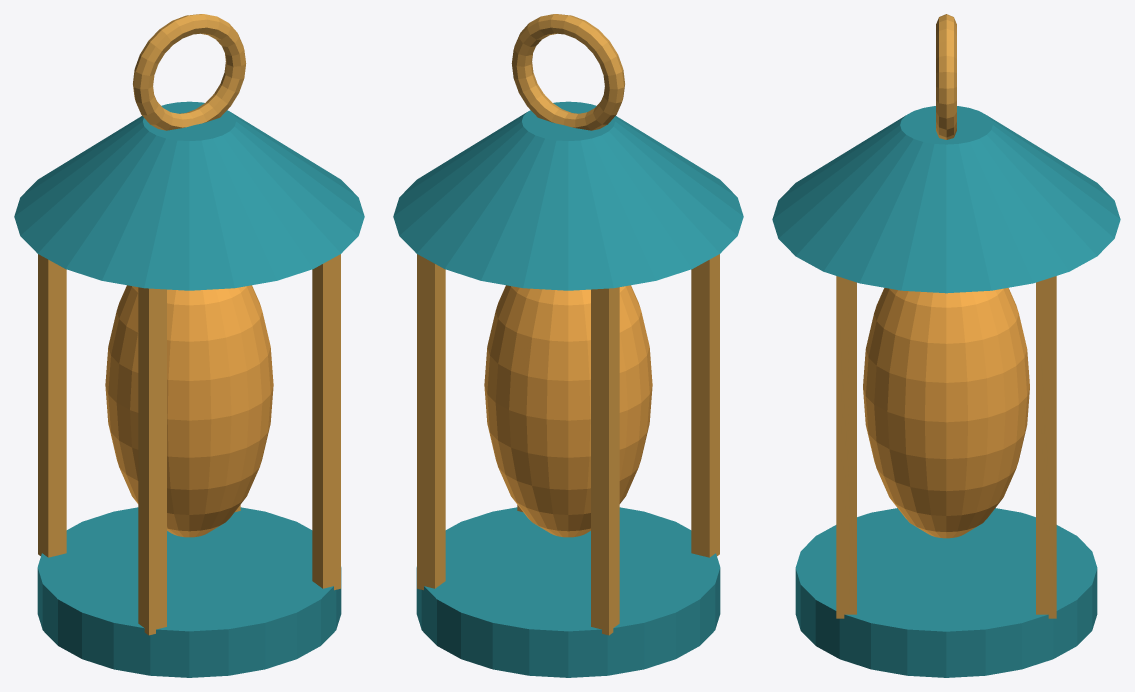
Rendered from lantern.glb.
3 renders of one model, left to right at view 1: azimuth 30°, elevation 25°; view 2: azimuth 150°, elevation 25°; view 3: azimuth 270°, elevation 25°, orthographic.
Visible parts, largest first — view 1: Canopy, Foot, Lamp, Support, Support.002, Support.001, Handle; view 2: Canopy, Foot, Lamp, Support.001, Support.003, Support, Handle; view 3: Canopy, Foot, Lamp, Support.002, Support.003, Handle.
Boxes of the visible parts, x1,y1,x2,y2 form: Canopy: [14, 101, 364, 290]; Foot: [37, 507, 341, 677]; Lamp: [105, 285, 273, 537]; Support: [138, 287, 166, 635]; Support.002: [312, 254, 340, 590]; Support.001: [38, 254, 66, 557]; Handle: [133, 14, 246, 130]; Canopy: [393, 101, 743, 290]; Foot: [416, 507, 720, 677]; Lamp: [484, 285, 652, 537]; Support.001: [591, 287, 619, 635]; Support.003: [417, 254, 445, 590]; Support: [691, 254, 719, 557]; Handle: [511, 14, 624, 130]; Canopy: [772, 106, 1120, 293]; Foot: [795, 508, 1097, 677]; Lamp: [863, 288, 1029, 538]; Support.002: [836, 276, 856, 618]; Support.003: [1036, 276, 1056, 618]; Handle: [936, 14, 956, 139].
Bounding box in the file's own units: 1.5 × 2.82 × 1.5.
